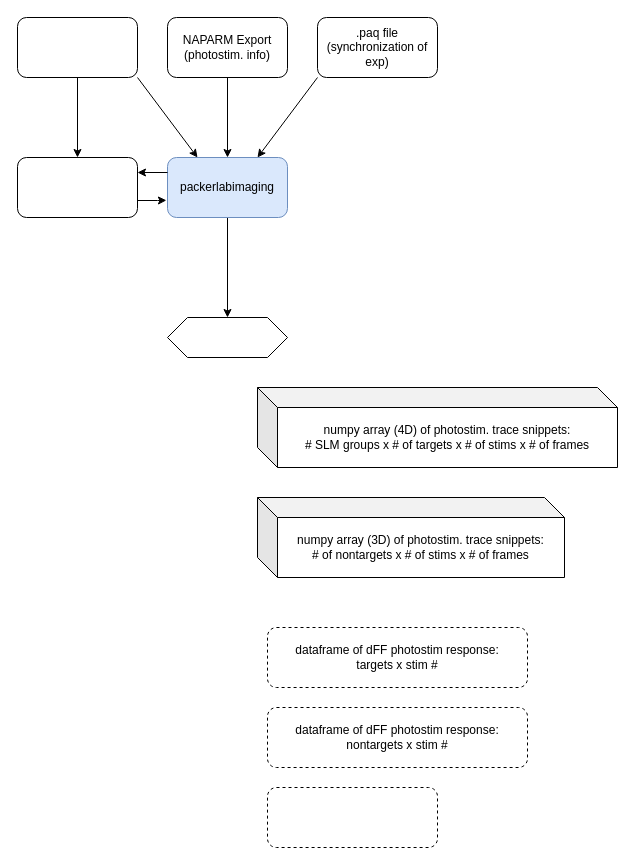
Image size: 635x865. Some labels were removed from this diagram. Here are the shapes that lost their labels. From the top down, the centre of each, then its label:
At (77,47): "2P Imaging Tiff".
At (77,187): "suite2p".
At (227,337): "data object".
At (352,817): "dict: SLM groups: target ids".
